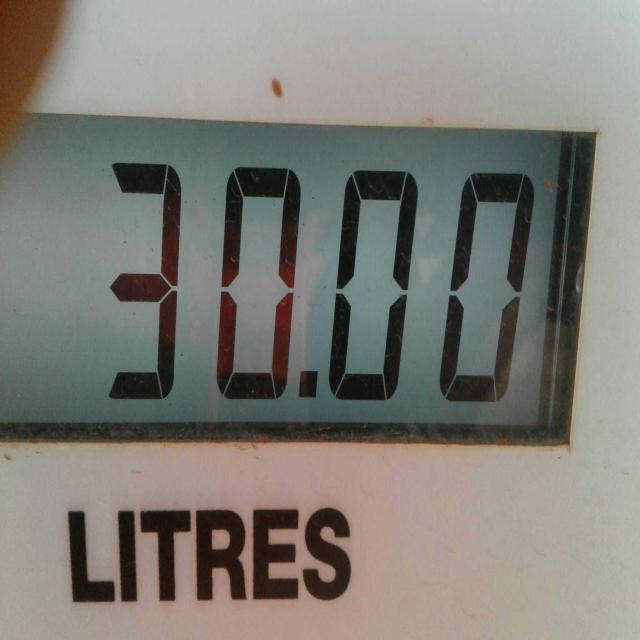.: (297, 366, 328, 426)
0: (321, 168, 431, 411), (441, 167, 532, 408), (221, 171, 293, 402)
3: (101, 159, 190, 401)
